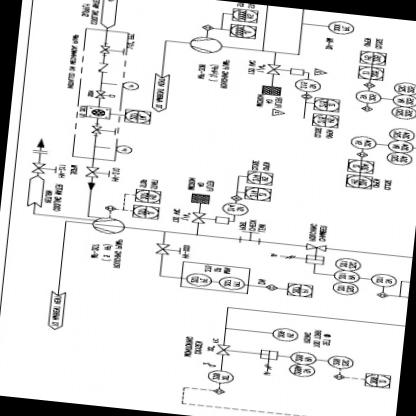LMI: (326, 18, 358, 36), (202, 368, 236, 384), (270, 326, 300, 344), (283, 362, 316, 378), (216, 274, 246, 291), (368, 271, 398, 288), (325, 353, 355, 370), (329, 280, 360, 296), (184, 270, 211, 288), (219, 201, 249, 217), (382, 151, 414, 166), (348, 134, 376, 151), (386, 105, 415, 121), (332, 256, 361, 272), (390, 79, 415, 97), (288, 349, 316, 365), (386, 138, 413, 154), (386, 126, 414, 141), (353, 89, 381, 104), (332, 268, 359, 283), (390, 93, 415, 109), (292, 78, 320, 92)
TAG: (362, 367, 394, 390), (284, 280, 319, 299), (338, 158, 375, 174), (227, 22, 258, 40), (242, 185, 273, 202), (309, 111, 339, 128), (357, 49, 387, 66), (342, 173, 372, 190), (354, 64, 384, 81), (245, 170, 274, 187), (230, 6, 259, 23), (130, 204, 160, 220), (122, 108, 152, 124), (312, 96, 340, 113), (134, 187, 162, 204)
